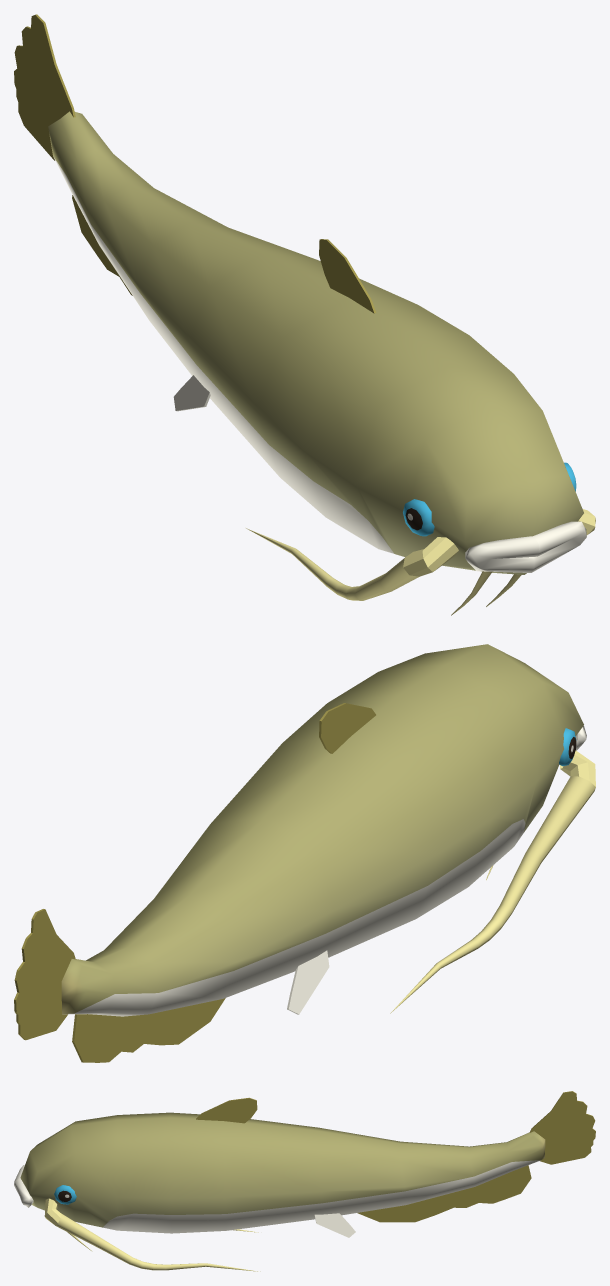
The picture shows the model from 3 angles, top to bottom: view 1: azimuth 30°, elevation 25°; view 2: azimuth 150°, elevation 25°; view 3: azimuth 270°, elevation 25°; orthographic projection. The views are drawn at different scales.
Visible parts, largest first — view 1: Fish_GiantCatfish; view 2: Fish_GiantCatfish; view 3: Fish_GiantCatfish.
Part boxes in pixels (<box>): Fish_GiantCatfish: <box>14,14,595,615</box>; Fish_GiantCatfish: <box>14,644,595,1062</box>; Fish_GiantCatfish: <box>14,1091,595,1271</box>.
Size of the model in its own units: 22.52 by 32.37 by 106.
